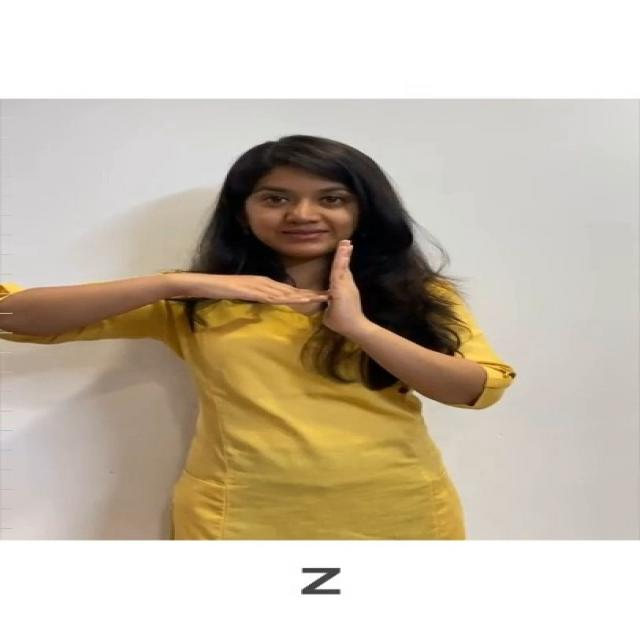Z: (167, 237, 381, 345)
